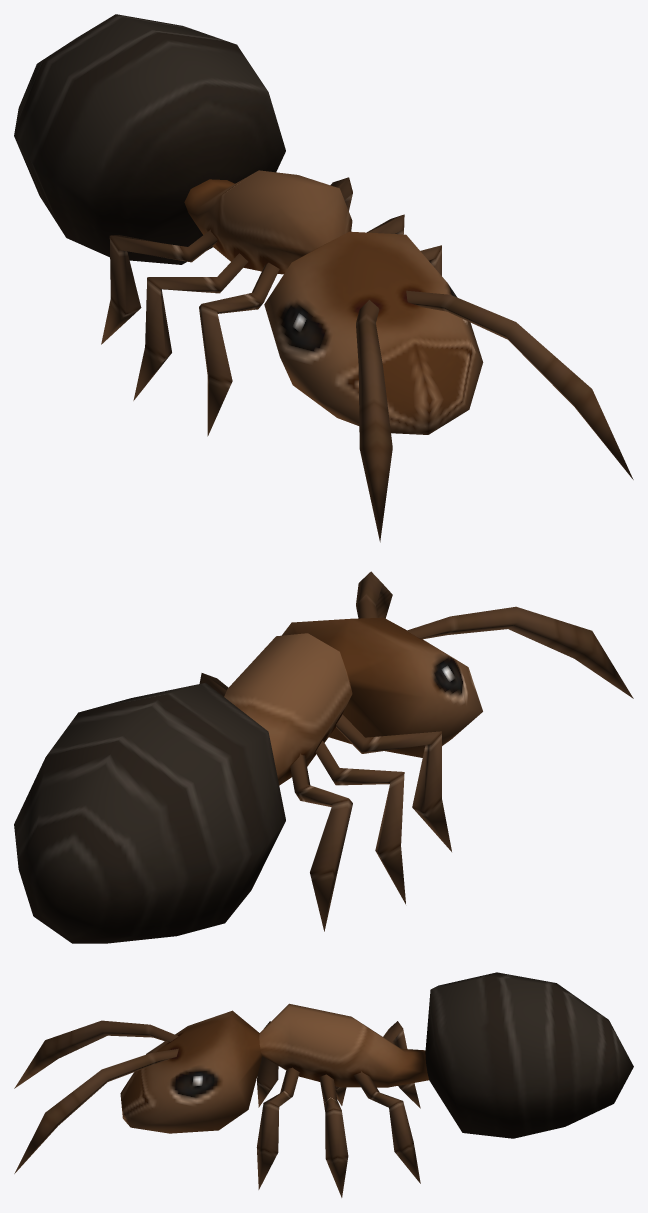
Rendered from assets_ant.fbx.
The picture shows the model from 3 angles, top to bottom: view 1: azimuth 30°, elevation 25°; view 2: azimuth 150°, elevation 25°; view 3: azimuth 270°, elevation 25°; orthographic projection. The views are drawn at different scales.
Parts seen in each view (by area): view 1: assets_ant; view 2: assets_ant; view 3: assets_ant.
Part boxes in pixels (<box>): assets_ant: <box>14,14,633,542</box>; assets_ant: <box>14,571,633,943</box>; assets_ant: <box>14,972,633,1197</box>.
Size of the model in its own units: 1.4 by 1.25 by 3.99.
